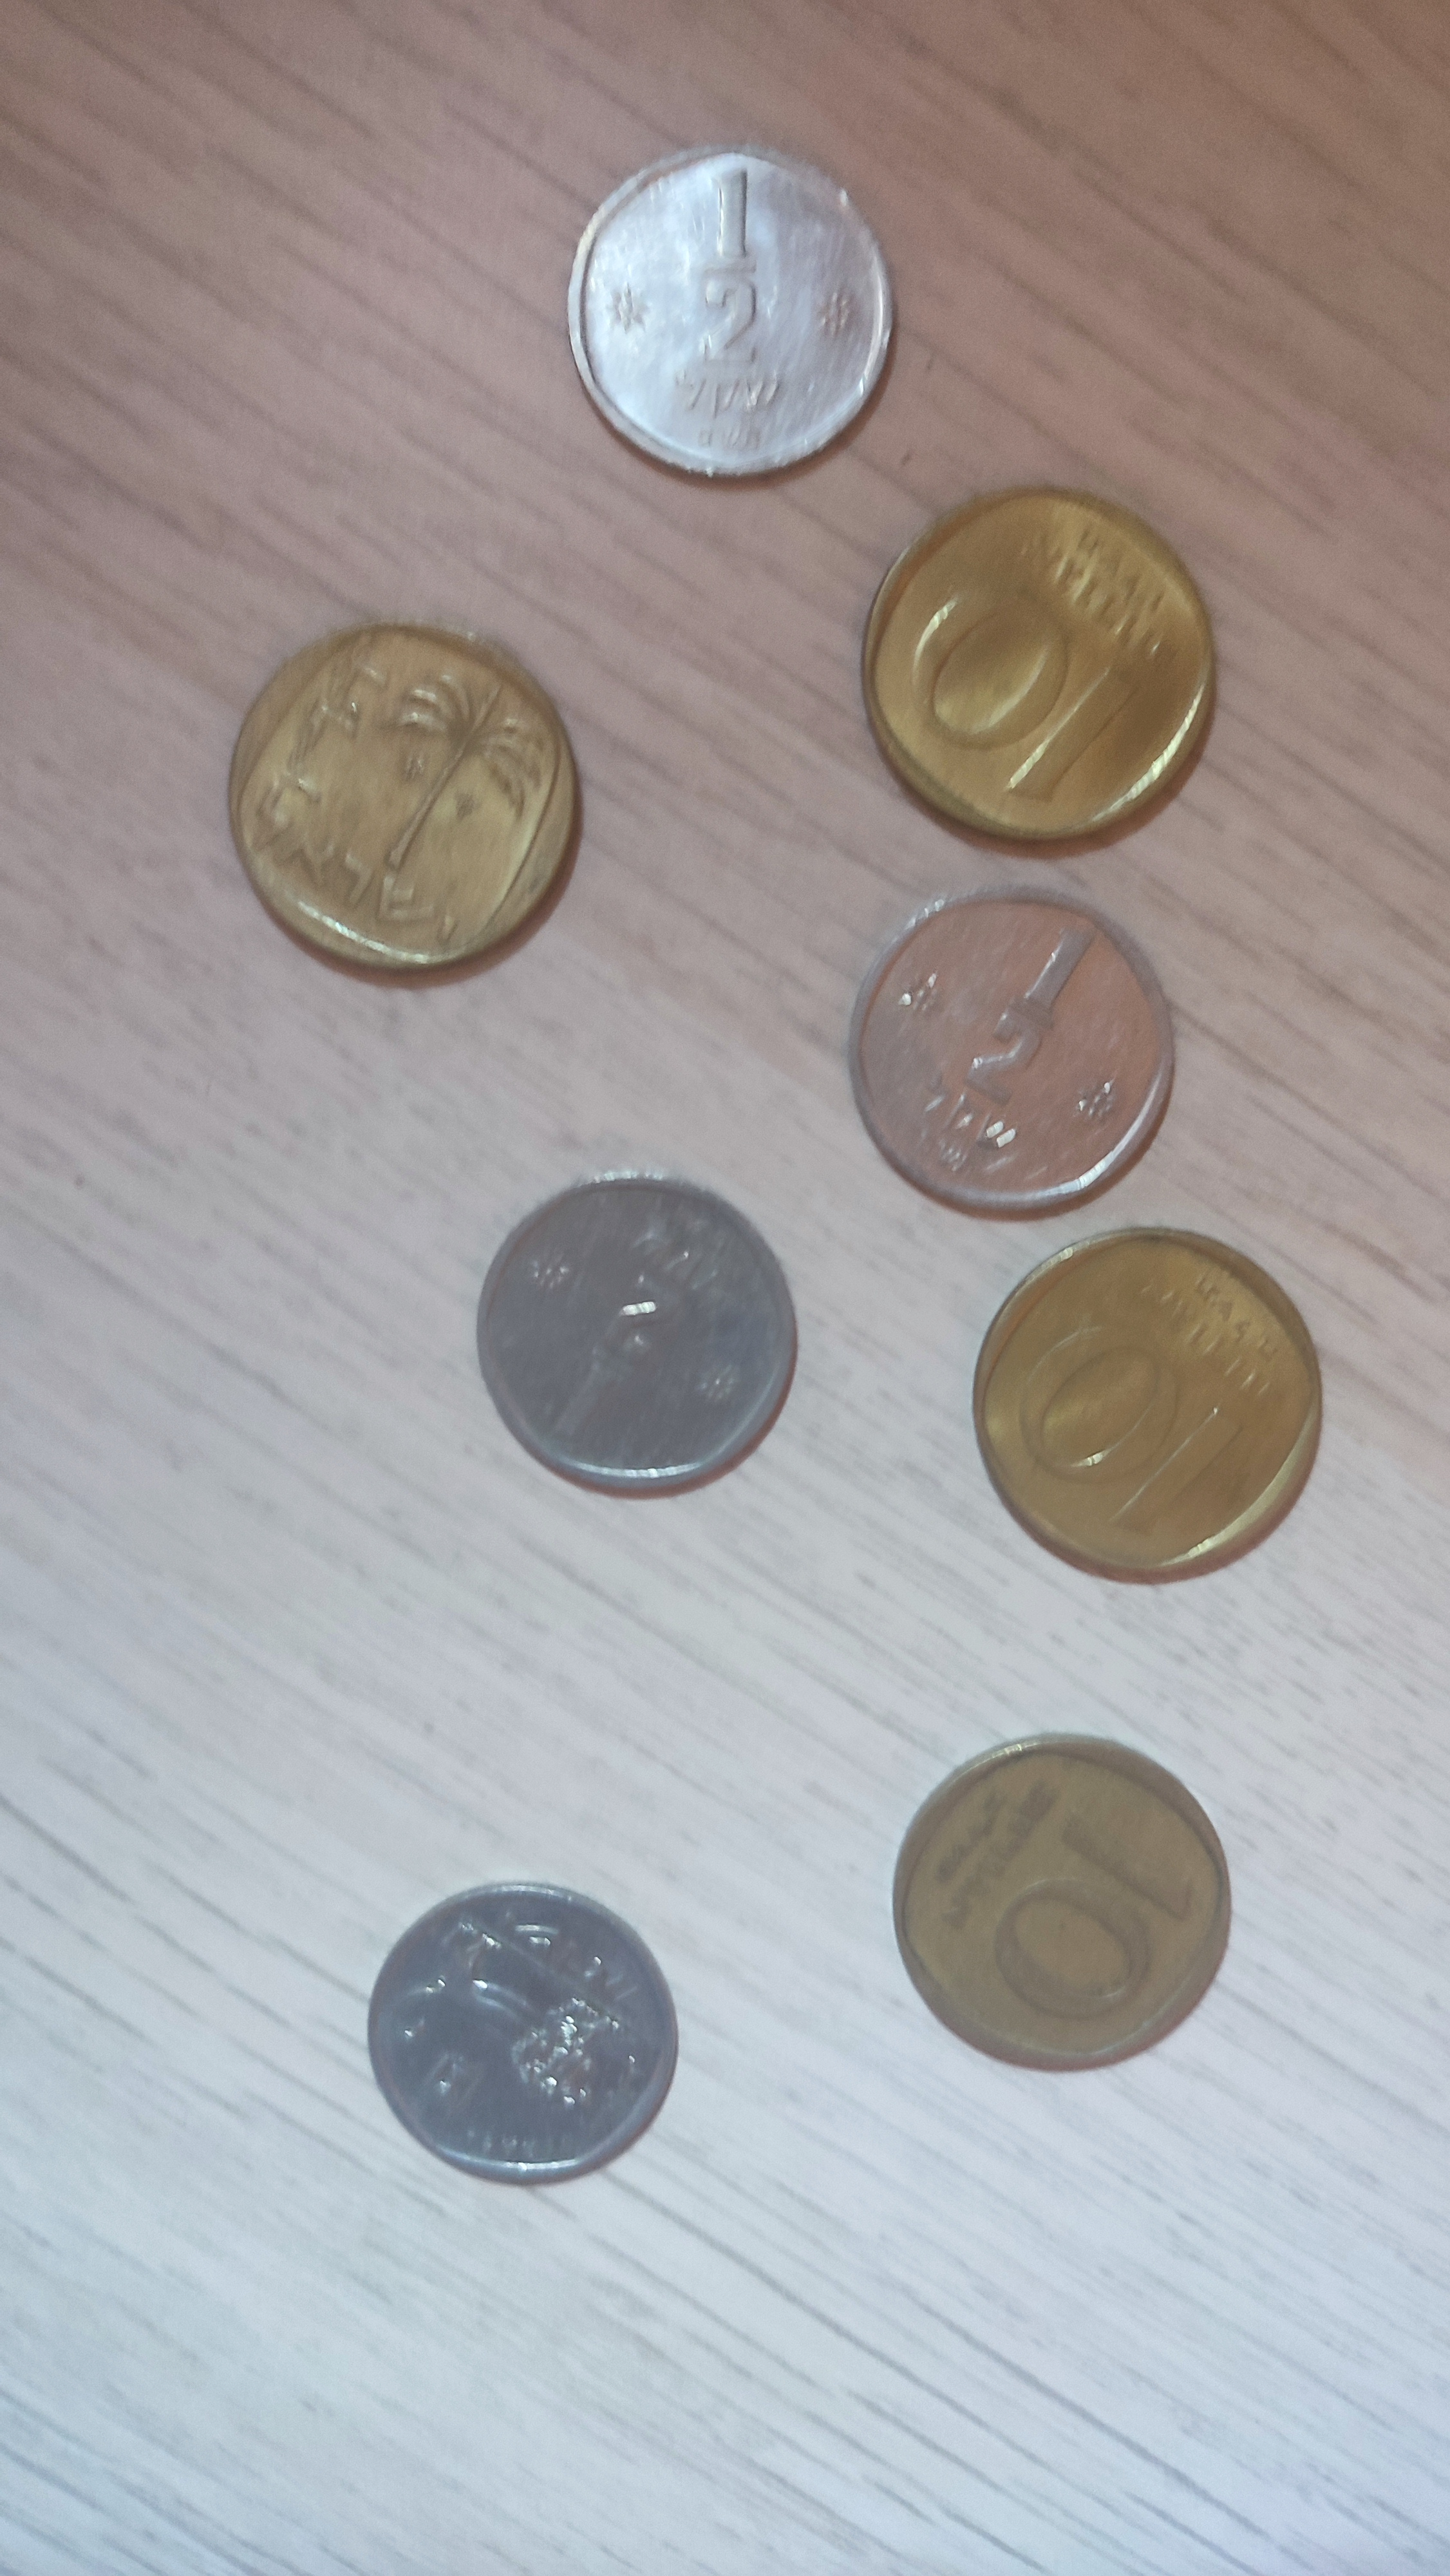1/2 old sheqel: (562, 127, 904, 492), (840, 881, 1181, 1228), (472, 1157, 808, 1502), (359, 1877, 688, 2196)
10 old agora brown: (852, 479, 1229, 862), (217, 612, 592, 989), (964, 1226, 1332, 1592), (884, 1727, 1240, 2077)
